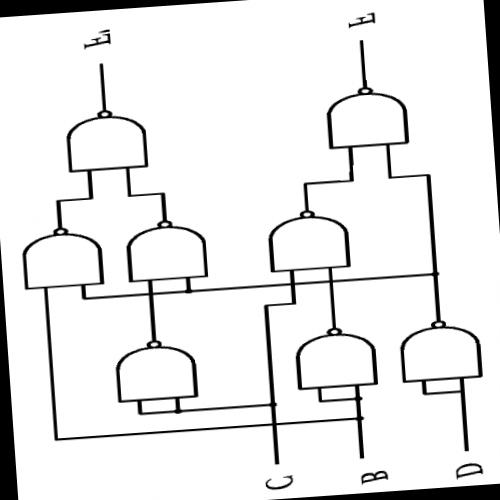nand: (305, 70, 425, 162), (50, 100, 158, 184), (254, 197, 363, 279), (11, 214, 112, 298), (286, 318, 390, 399), (387, 312, 492, 392), (104, 332, 209, 410), (114, 210, 216, 290)
